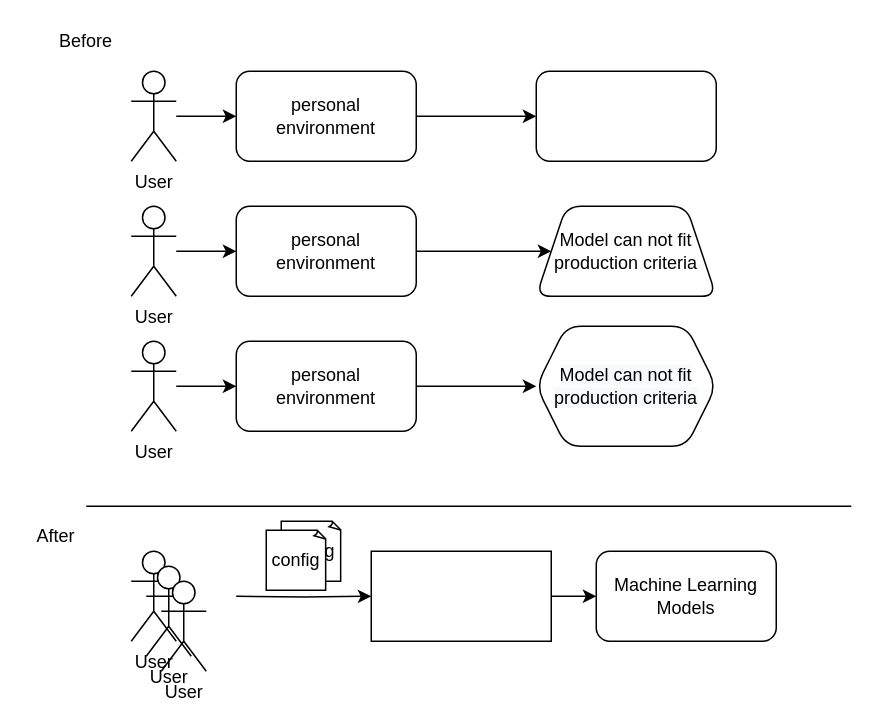
Some shapes in this 879 by 728 pixel diagram are drawn without their labels. The shapes that lost their labels are listed below. From the top down, each one's box as (x1, y1, x2, y2) in pixels, then its label:
(535, 70, 716, 161): Machine Learning Model
(370, 550, 551, 641): Unified Machine Learning Pipeline
